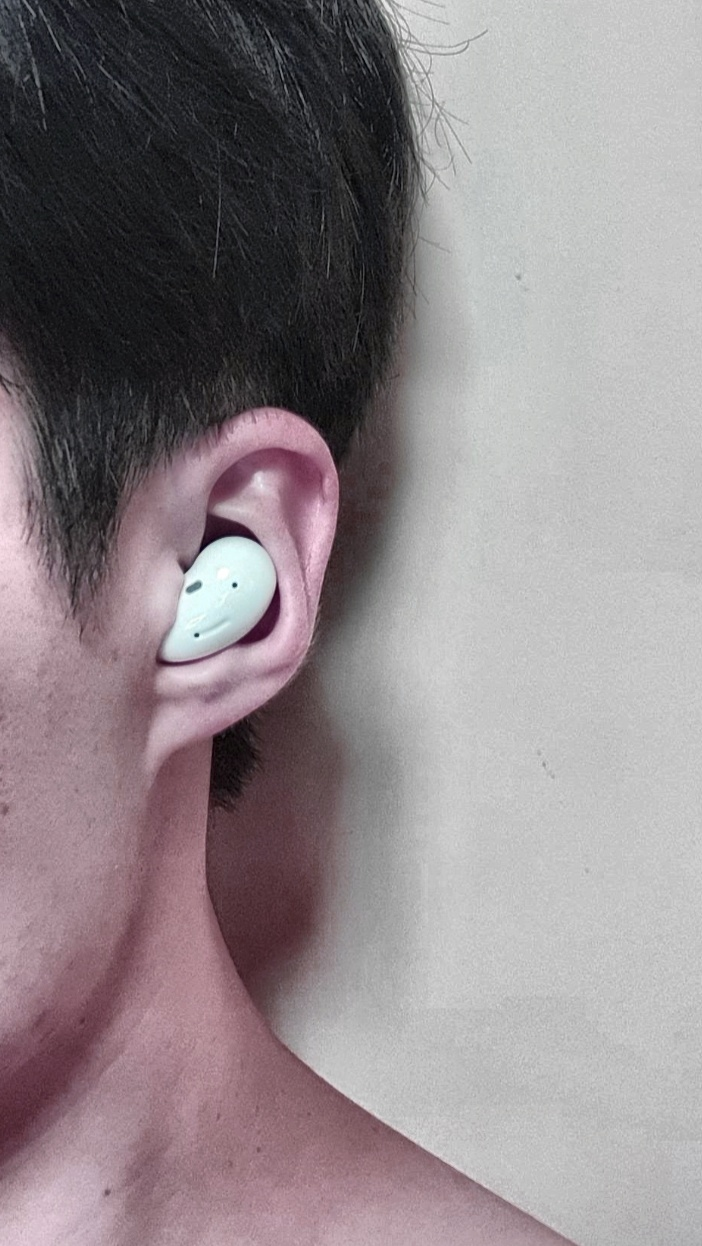earphone: (141, 408, 341, 764)
